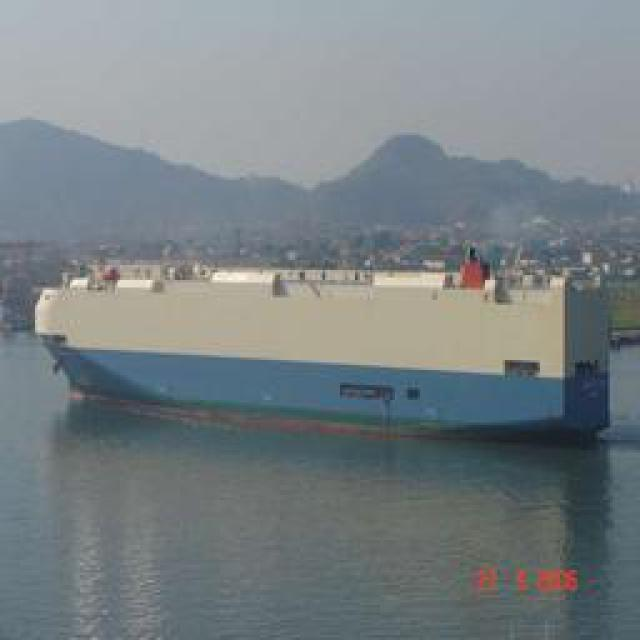Ship: (40, 255, 618, 440)
